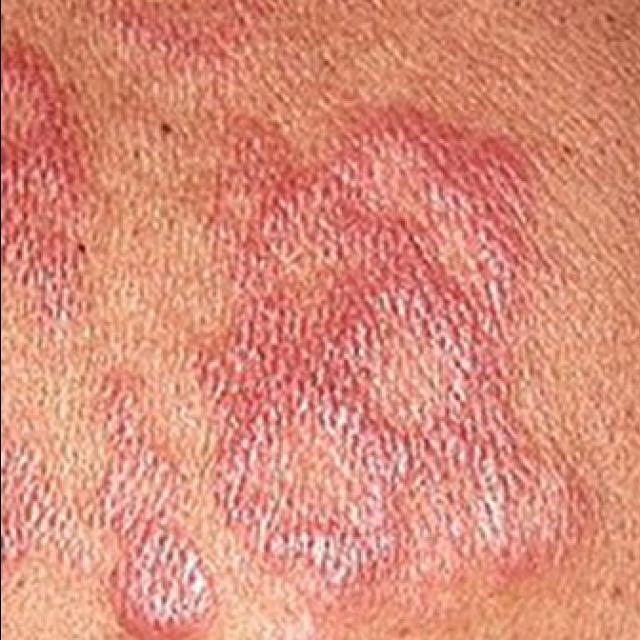Leprosy: (212, 105, 600, 594), (0, 364, 219, 640), (0, 34, 109, 336)
